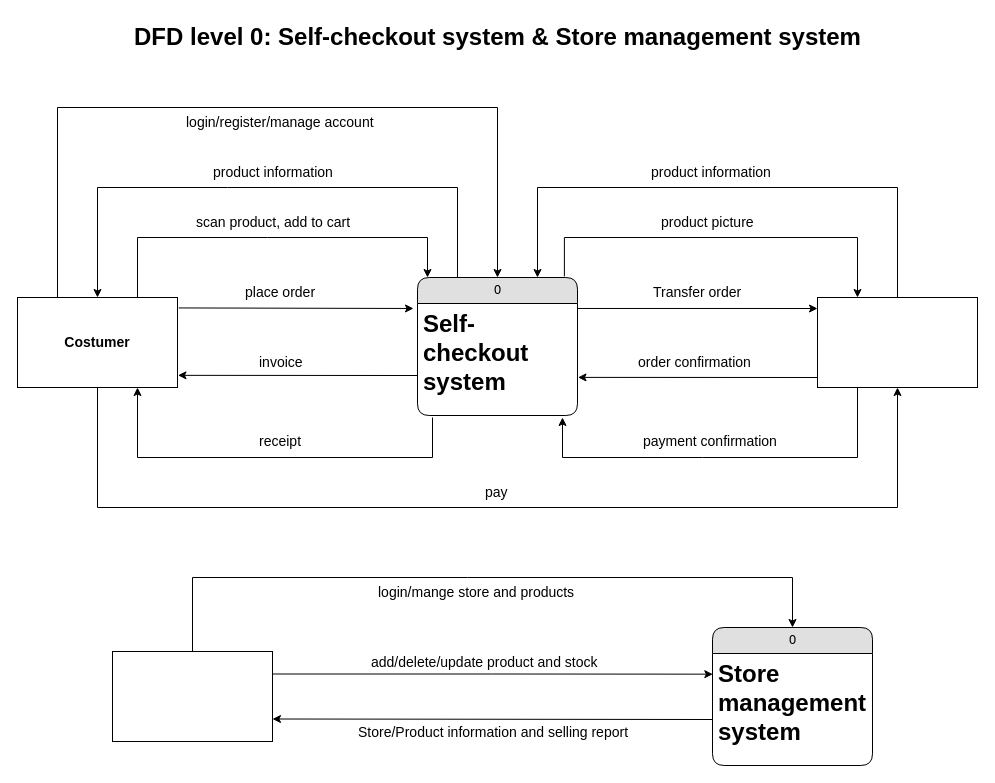
This 995x783 diagram has some shape labels left out. Each missing label, with the centre of its shape:
Admin: (192,696)
Store Application: (897,342)
